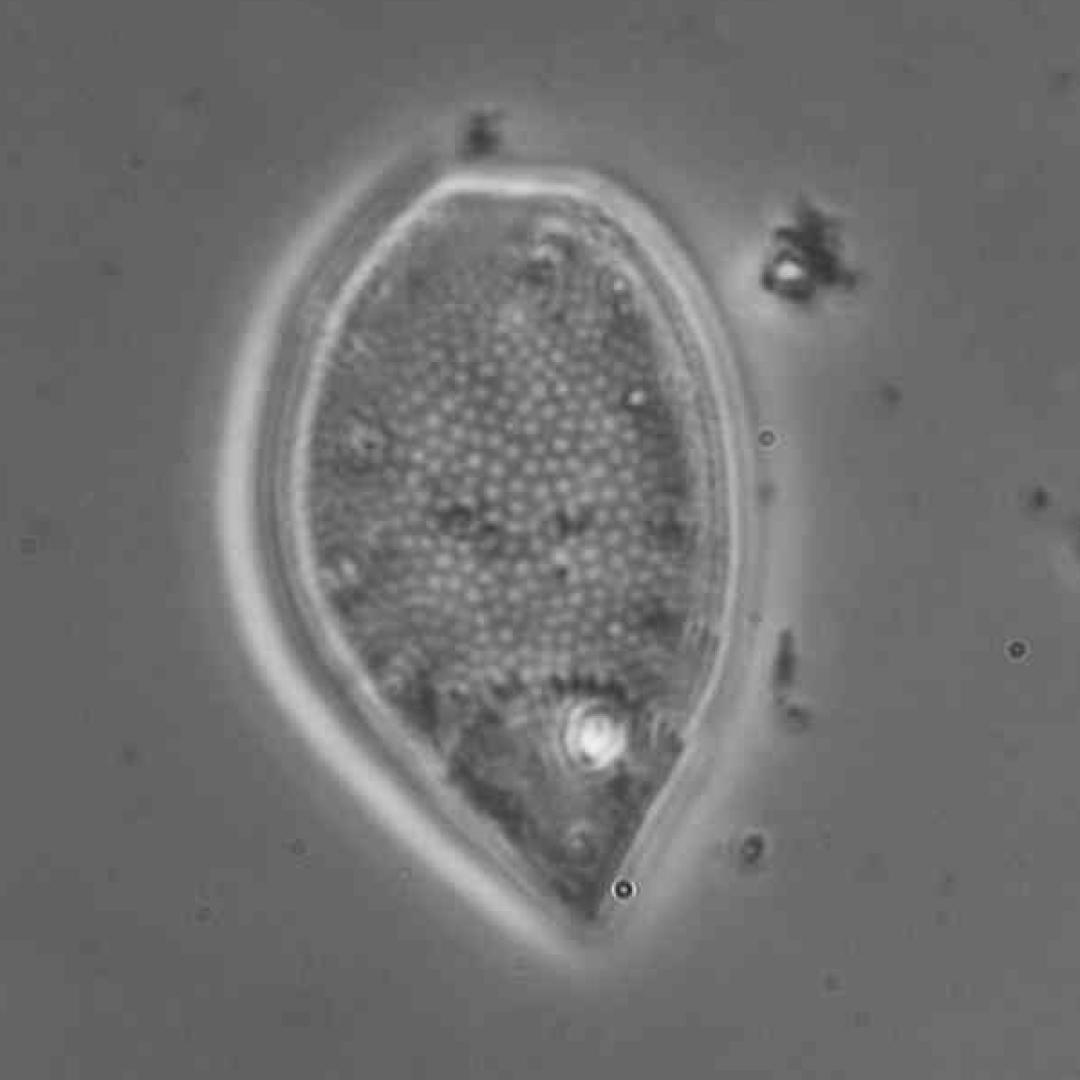prorocentrum_micans: (273, 108, 759, 943)
